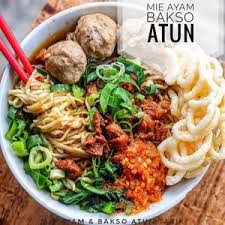bakso: (22, 24, 192, 197)
